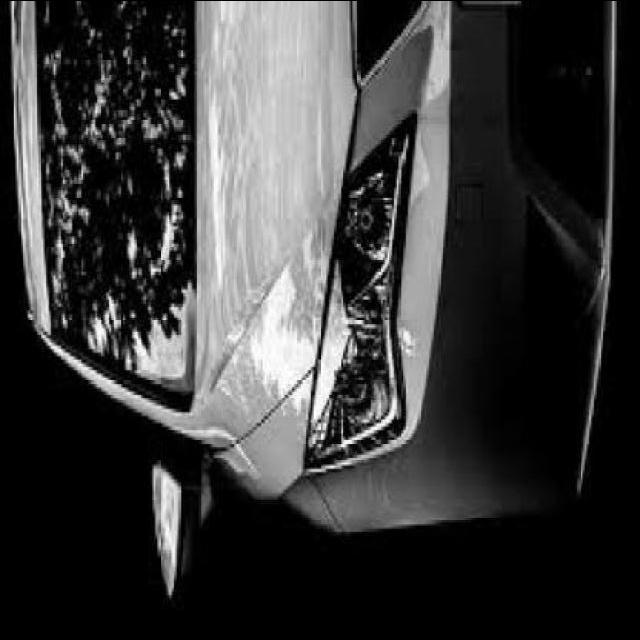Headlight-Damage: (297, 101, 455, 541)
